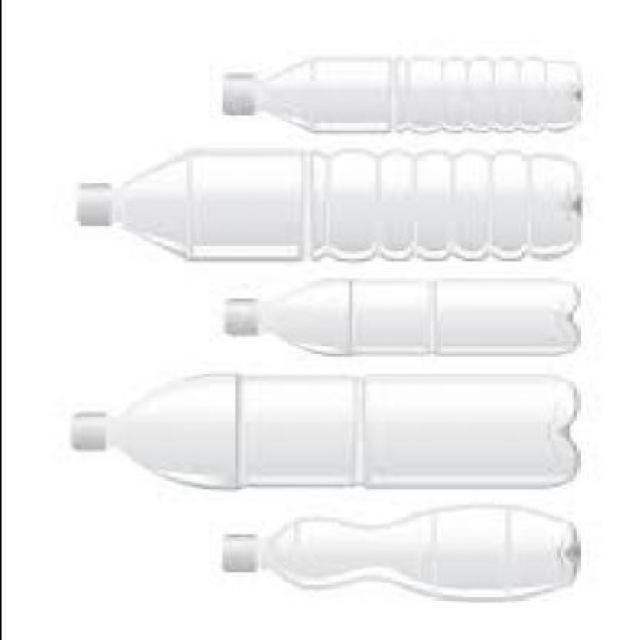PLASTIC: (68, 374, 575, 488), (71, 146, 578, 256), (214, 502, 572, 598), (220, 273, 574, 356), (218, 53, 578, 130), (71, 178, 111, 224), (214, 532, 254, 570), (65, 407, 101, 448), (218, 70, 250, 116), (221, 296, 253, 333)
